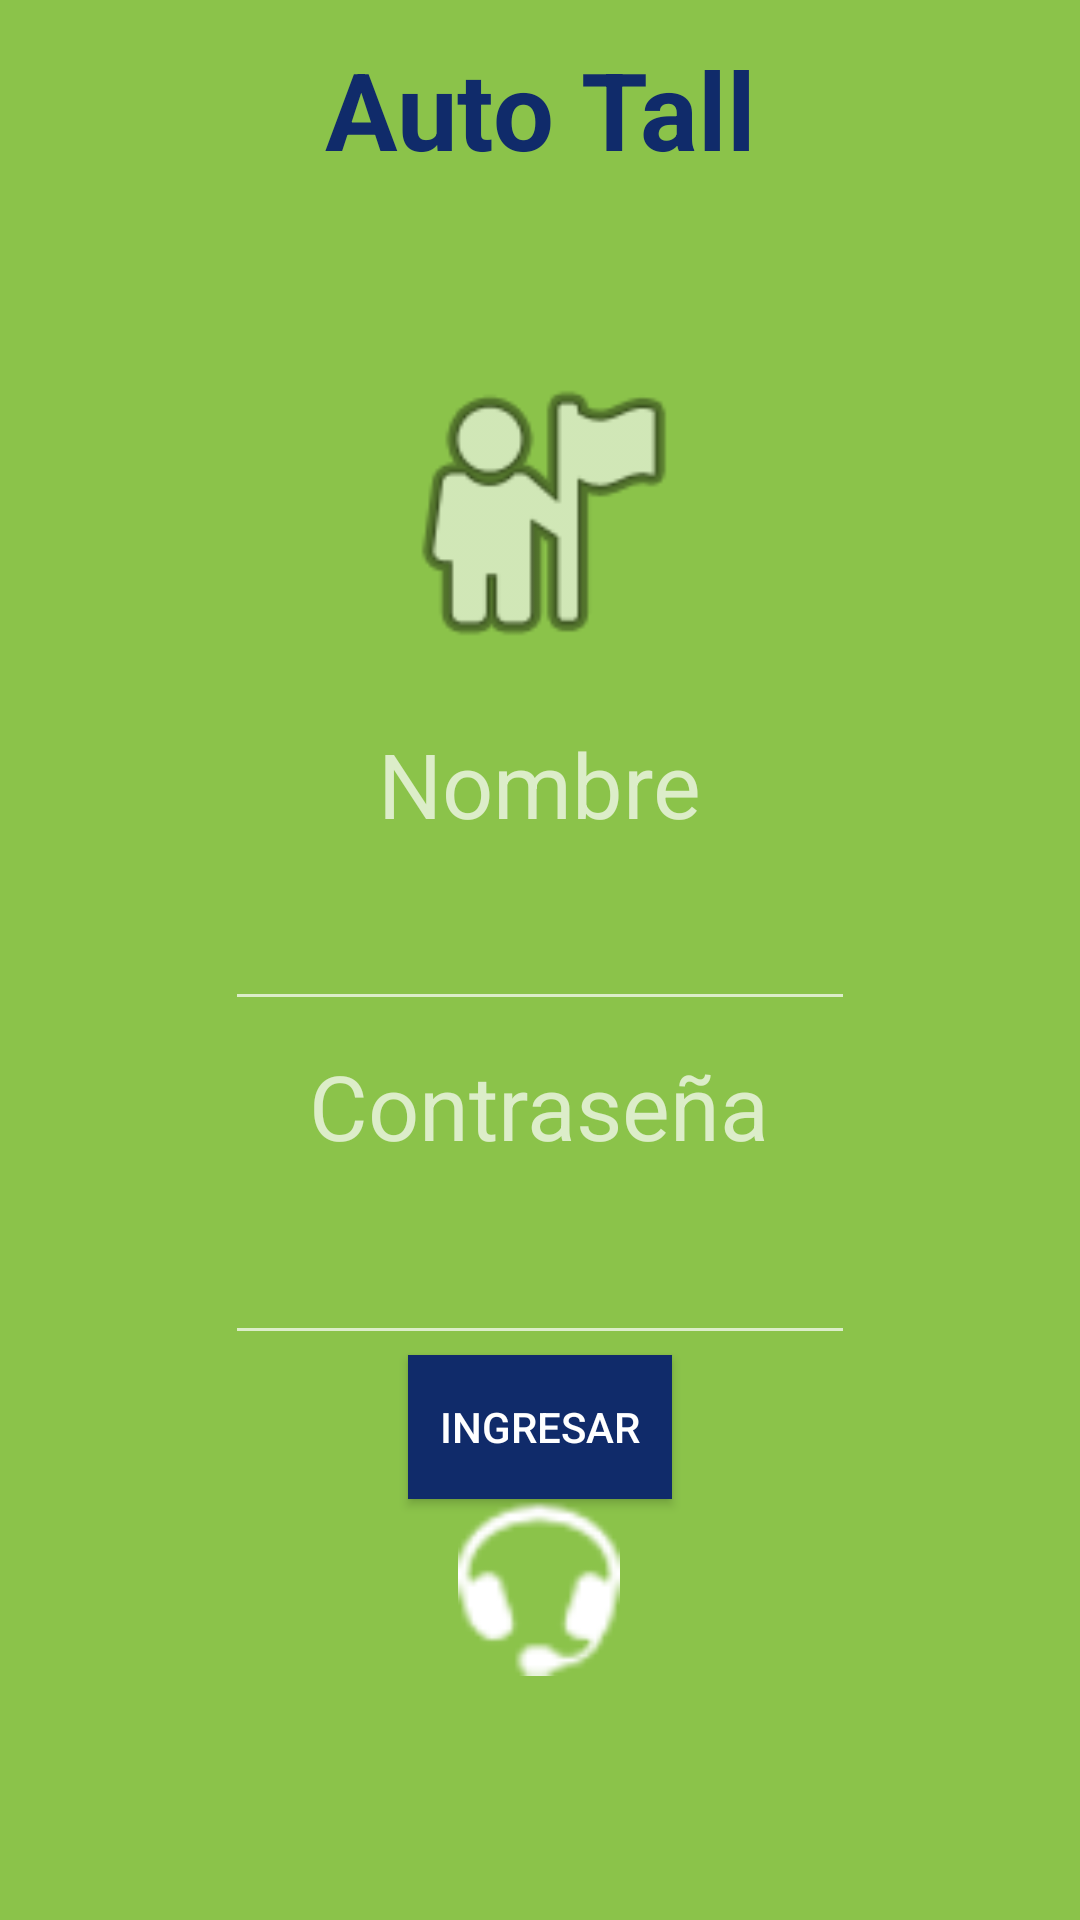

Where icons sit on this 1080 x 1920 app screen, as box=[x1, y1, x2, y2]:
headset: box=[458, 1503, 620, 1676]
